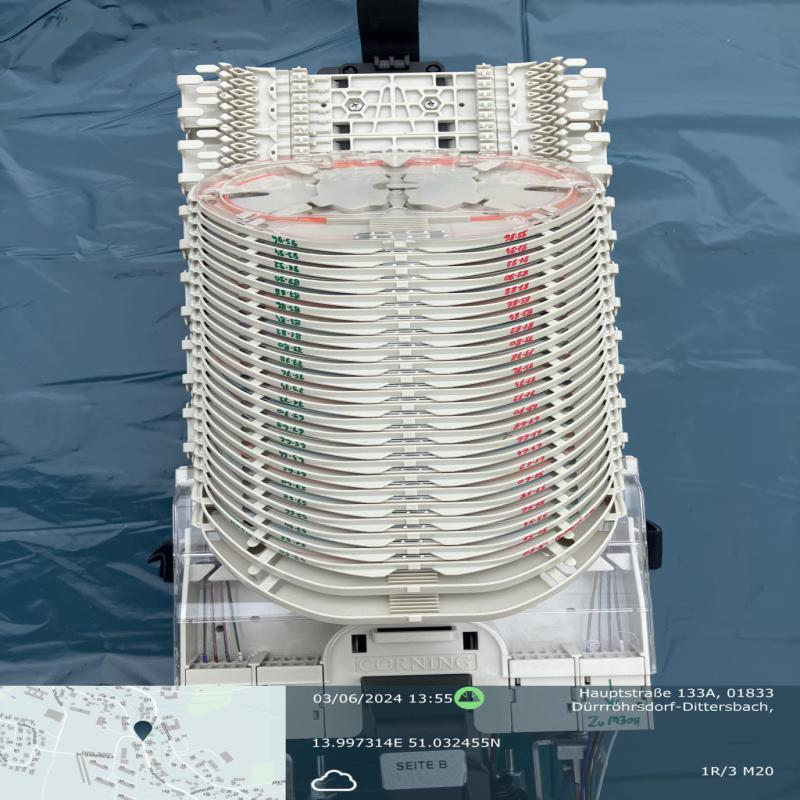NT-Muffen: (157, 52, 671, 691)
